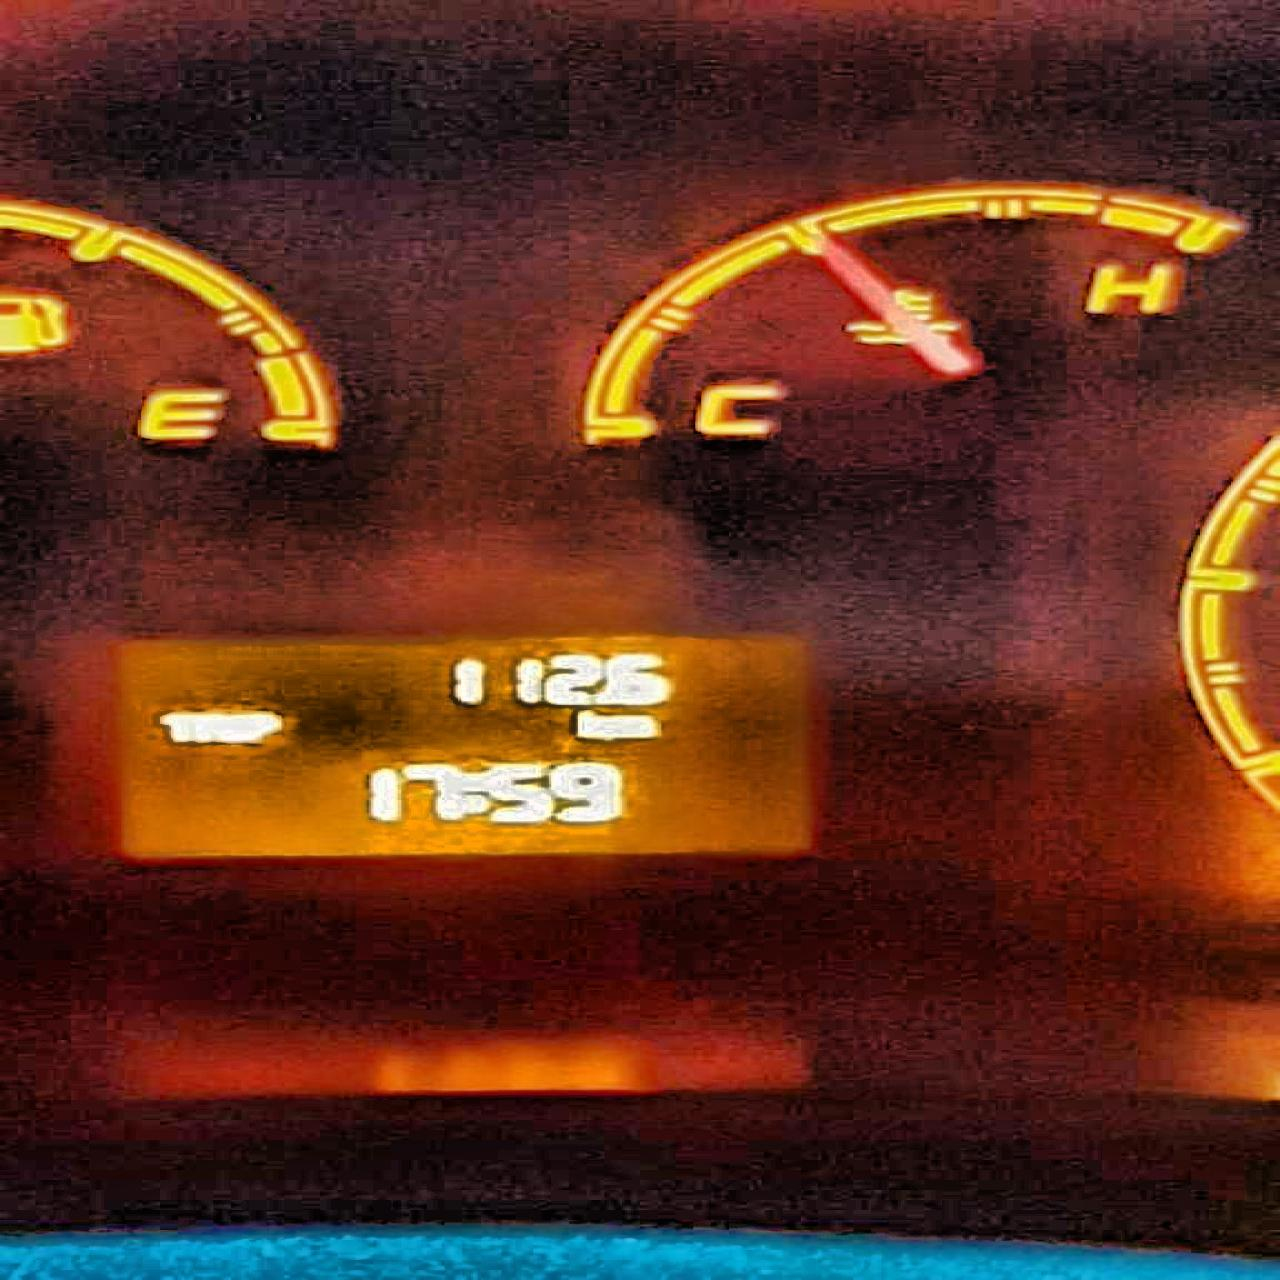-: (588, 693, 605, 707)
1: (355, 760, 395, 824), (501, 653, 542, 706), (447, 655, 489, 706)
2: (543, 653, 595, 708)
5: (482, 757, 549, 826)
6: (602, 651, 674, 708)
7: (397, 757, 462, 825)
9: (551, 757, 627, 825)
X: (605, 709, 662, 741), (566, 704, 606, 741), (154, 708, 196, 742), (244, 706, 280, 743), (196, 709, 226, 741), (462, 769, 482, 815), (226, 712, 245, 742)
odometer: (95, 624, 829, 869)
